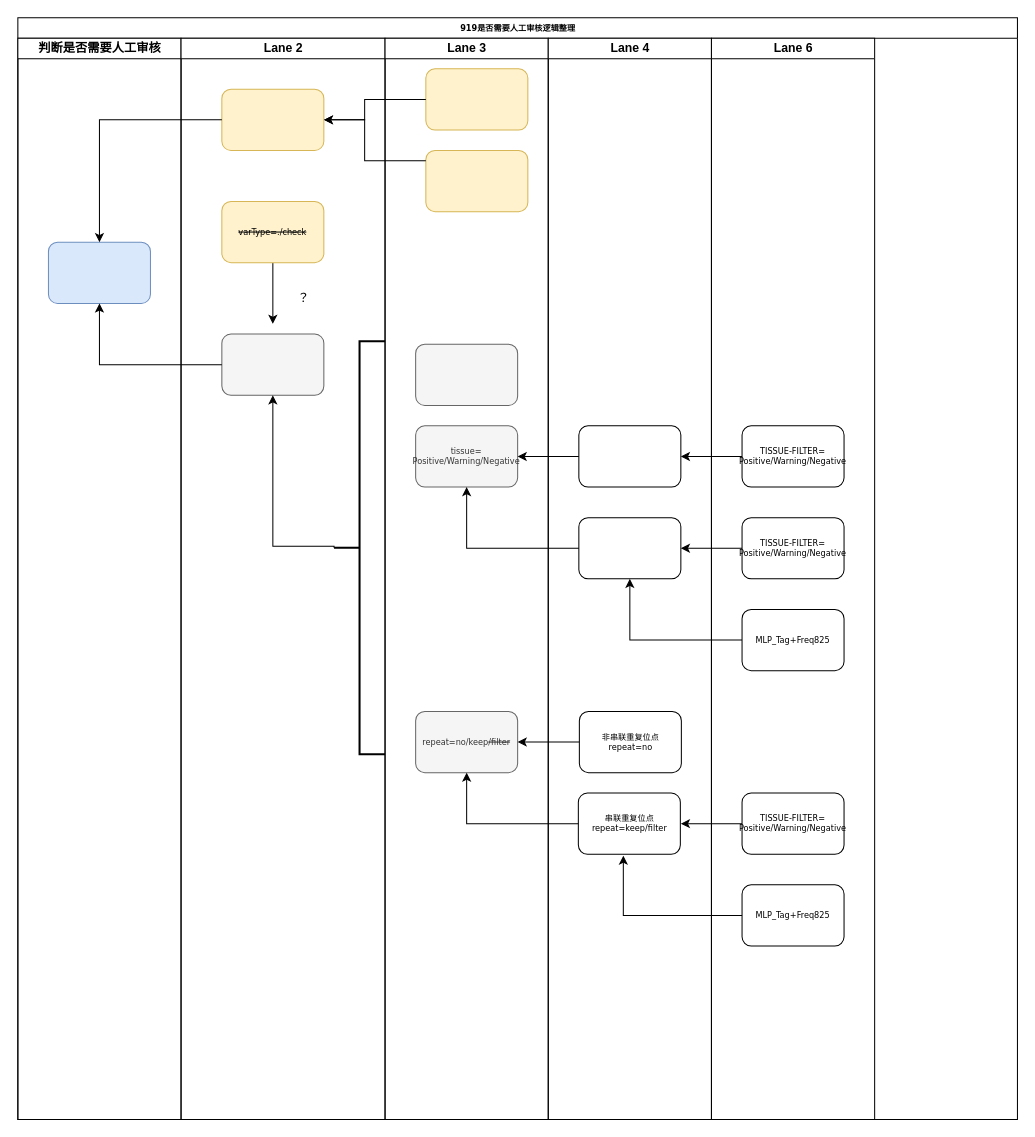
Image size: 1035x1137. Some labels were removed from this diagram. The centre of each missing label's shape, as x and y in pixels:
"mutNet=True/Check/False" belongs at [272,364].
"Passport=Pass/False" belongs at [466,374].
"verify=yes" belongs at [272,119].
"串联重复位点 tissue= Positive/Warning/Negative" belongs at [629,548].
"是否需要人工审核" belongs at [98,272].
"污染验证" belongs at [476,99].
"灰区验证" belongs at [476,180].
"非串联重复位点 tissue= Positive/Warning/Negative" belongs at [629,456].
